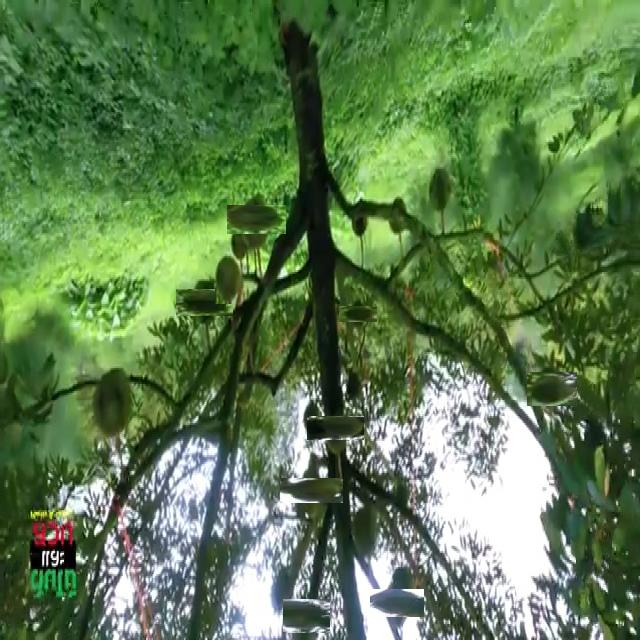durian: (91, 364, 134, 437), (235, 197, 279, 242), (289, 468, 334, 512), (184, 281, 226, 324), (531, 367, 573, 410), (377, 582, 418, 624), (314, 407, 356, 448), (286, 596, 327, 637), (352, 502, 382, 555), (215, 255, 242, 304), (427, 165, 452, 213), (303, 399, 323, 440), (389, 194, 408, 234), (344, 300, 372, 327), (351, 201, 370, 239), (344, 371, 363, 403)
